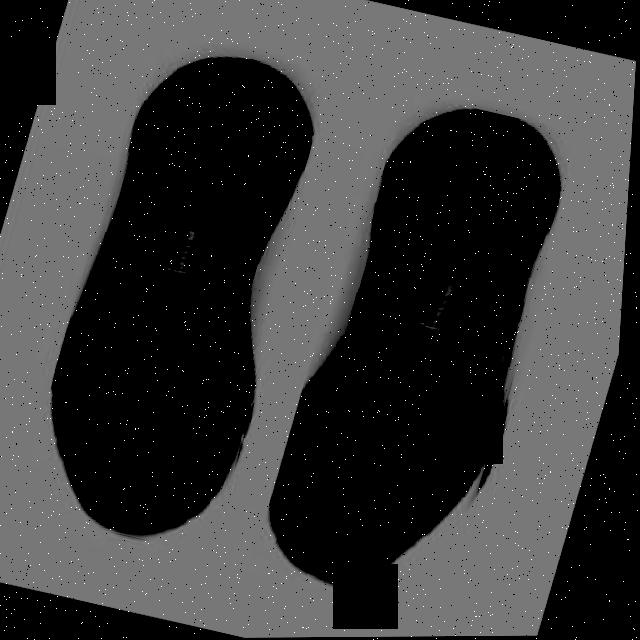shoe: (18, 30, 353, 558), (256, 89, 592, 612)
